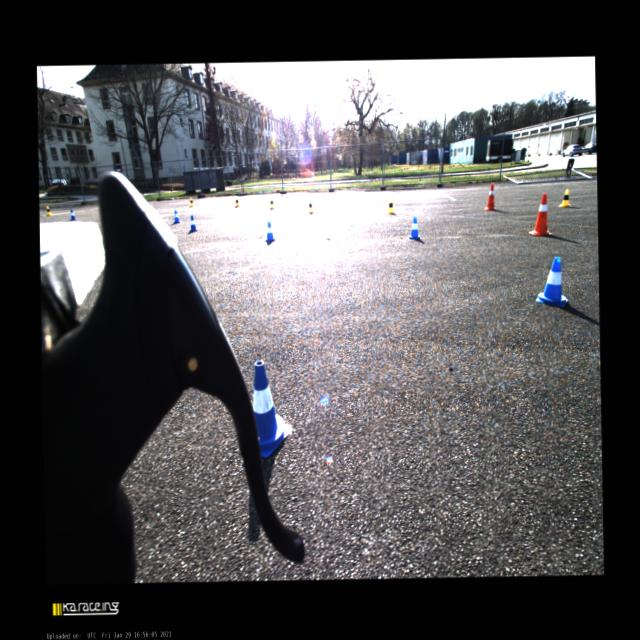blue_cone: (252, 360, 292, 458), (534, 256, 568, 308), (408, 216, 419, 239), (265, 220, 275, 241), (188, 214, 198, 231), (172, 208, 180, 224), (69, 208, 77, 220)
large_orange_cone: (528, 192, 552, 235), (484, 183, 496, 210)
yellow_cone: (558, 188, 570, 206), (386, 199, 394, 214), (46, 204, 52, 216), (234, 196, 240, 207), (308, 202, 314, 212), (269, 199, 274, 209), (189, 196, 193, 207)
